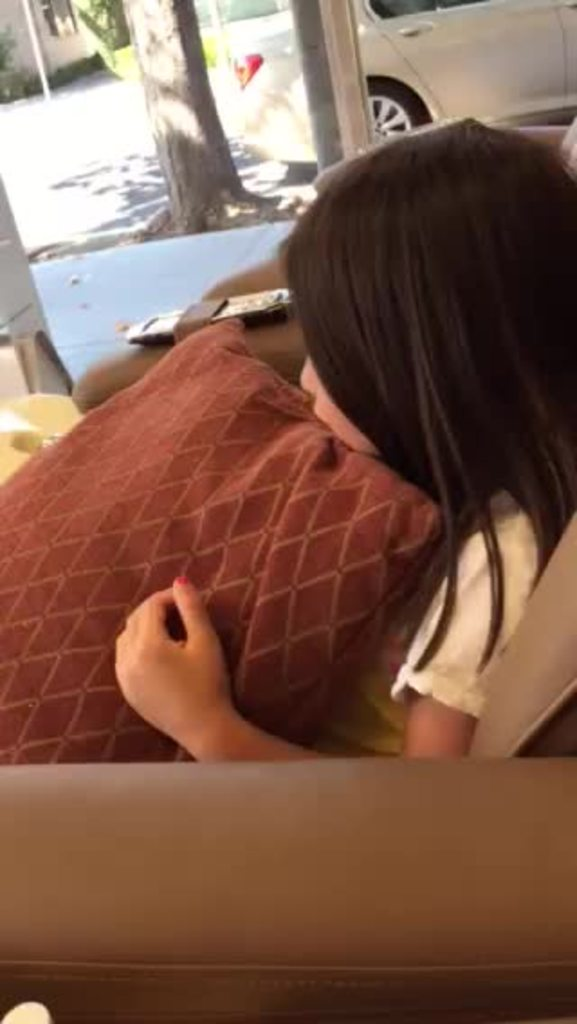Human_hand: (108, 573, 249, 743)
